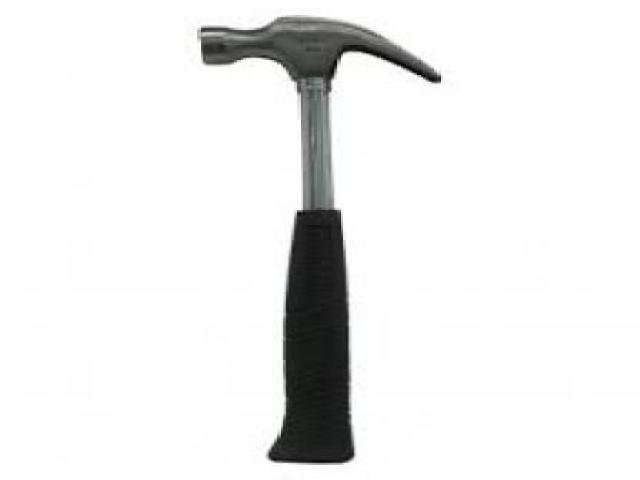Hammer: (199, 17, 440, 463)
